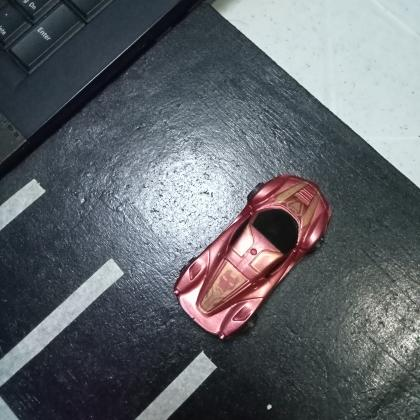Car: (172, 175, 332, 340)
